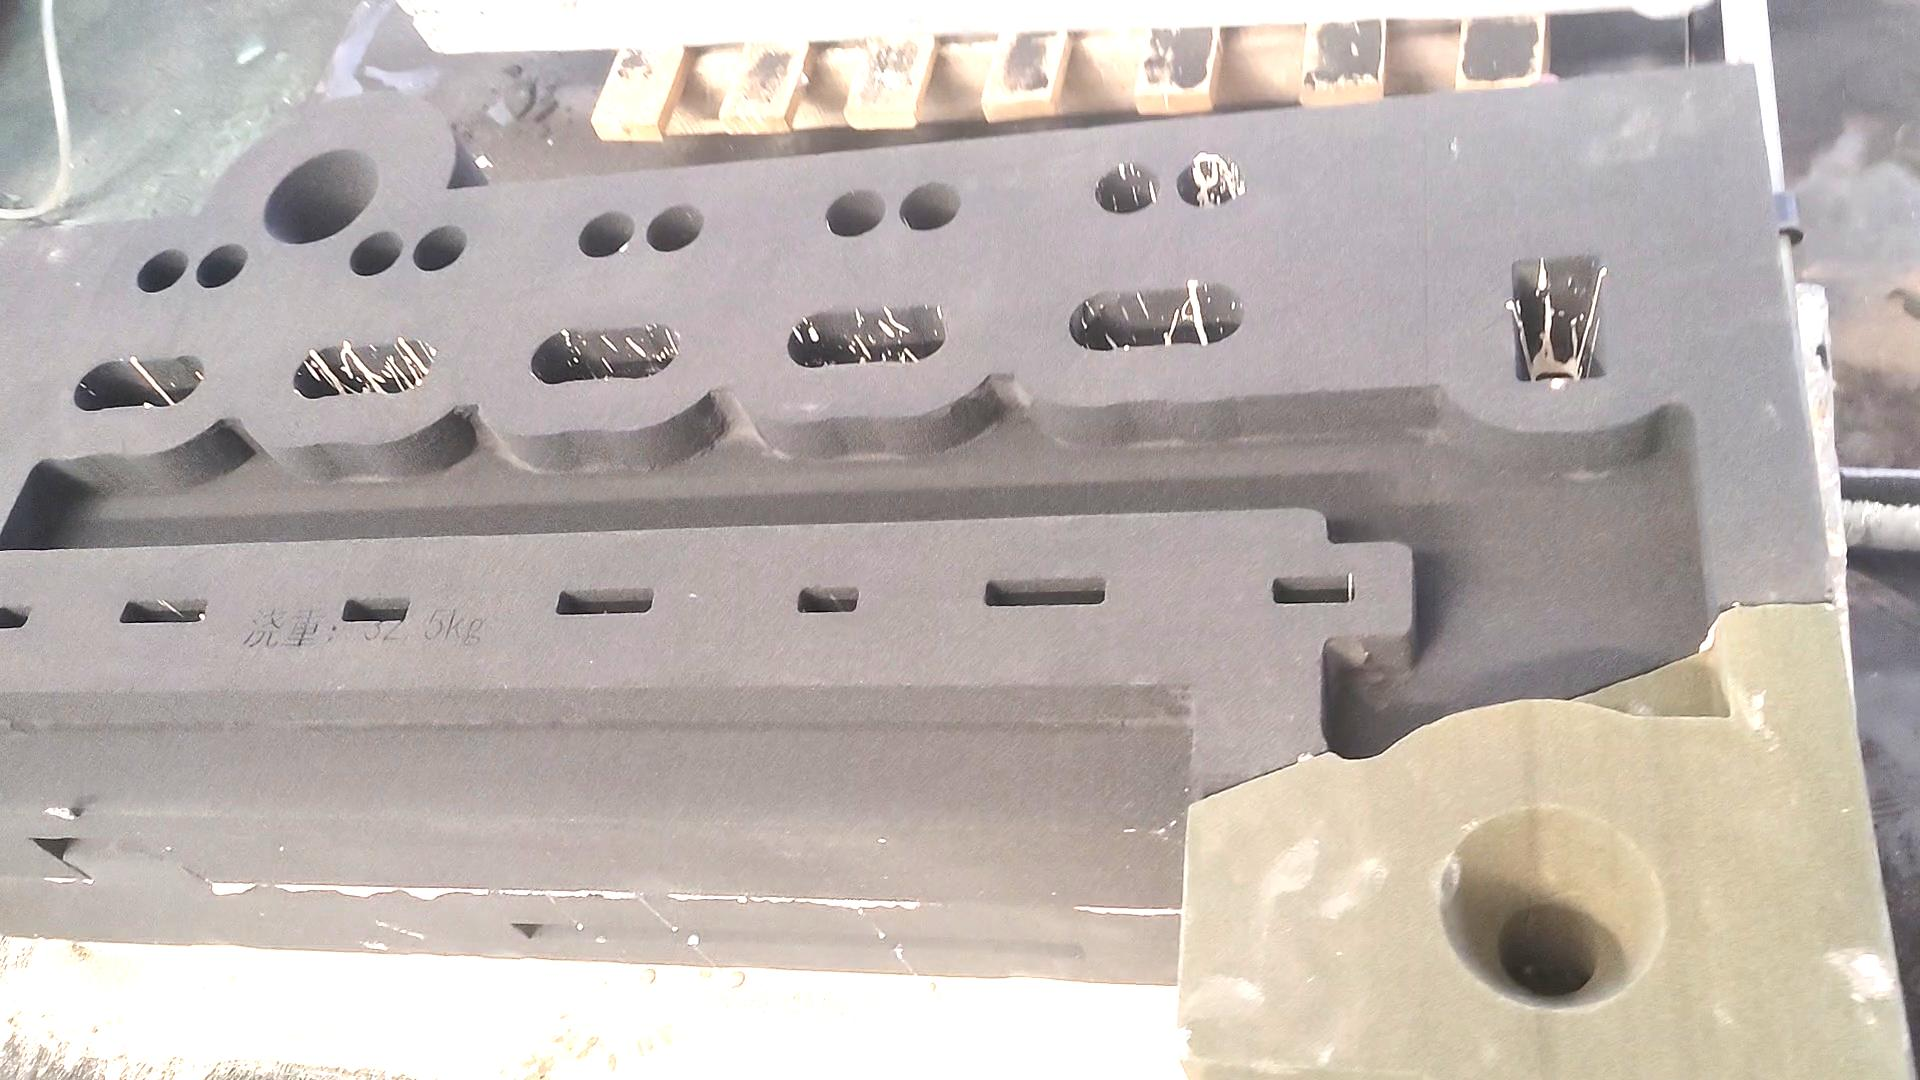pouring hole: (1435, 803, 1665, 1011), (262, 146, 378, 244)
